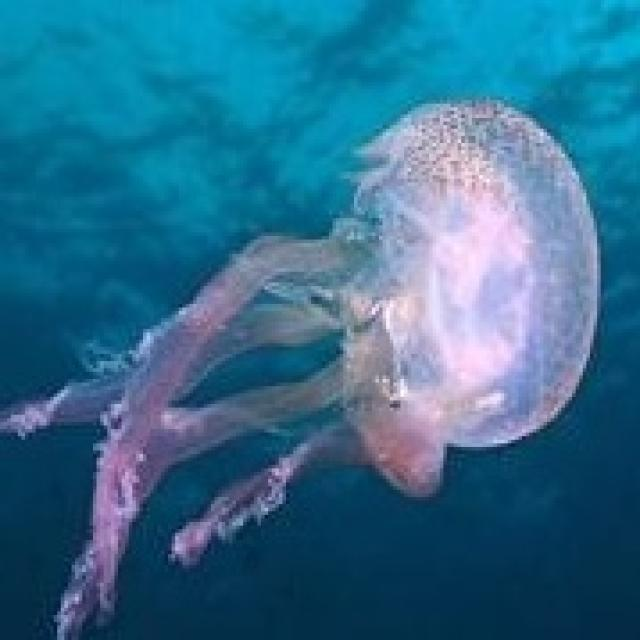Box-jellyfish: (0, 93, 601, 636)
